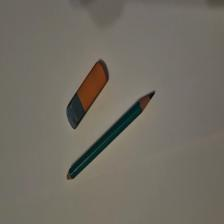eraser: (67, 63, 110, 131)
pencil: (68, 93, 156, 182)
